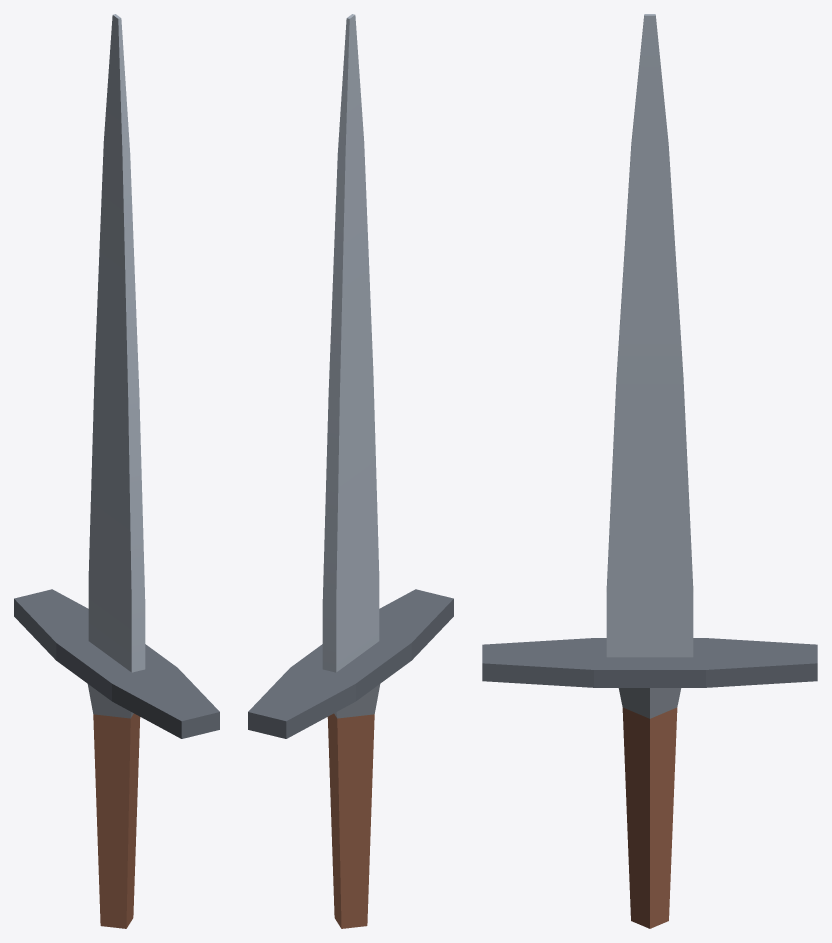
Rendered from sword.fbx.
3 renders of one model, left to right at view 1: azimuth 30°, elevation 25°; view 2: azimuth 150°, elevation 25°; view 3: azimuth 270°, elevation 25°, orthographic.
Visible parts, largest first — view 1: sword; view 2: sword; view 3: sword.
Part boxes in pixels (x1=…): sword: x1=14, y1=14, x2=219, y2=928; sword: x1=248, y1=14, x2=453, y2=928; sword: x1=482, y1=14, x2=817, y2=928.
Bounding box in the file's own units: 0.1004 × 1.32 × 0.4444.
